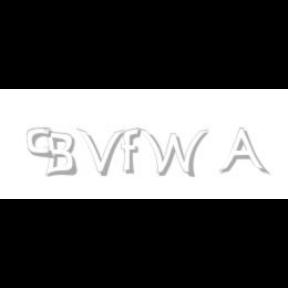A: (219, 128, 267, 176)
B: (43, 128, 77, 178)
V: (77, 128, 125, 176)
W: (137, 128, 209, 178)
c: (26, 128, 55, 160)
f: (121, 128, 145, 174)
